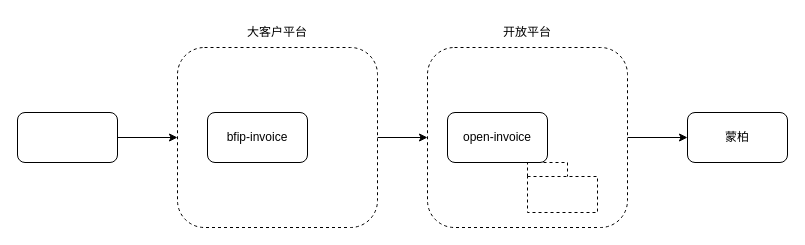
Some shapes in this 805 by 245 pixel diagram are drawn without their labels. The centre of each missing label's shape, as x and y in pixels:
"ftsp-restclient" belongs at [562,187].
"慧盈-portal" belongs at [67,137].
